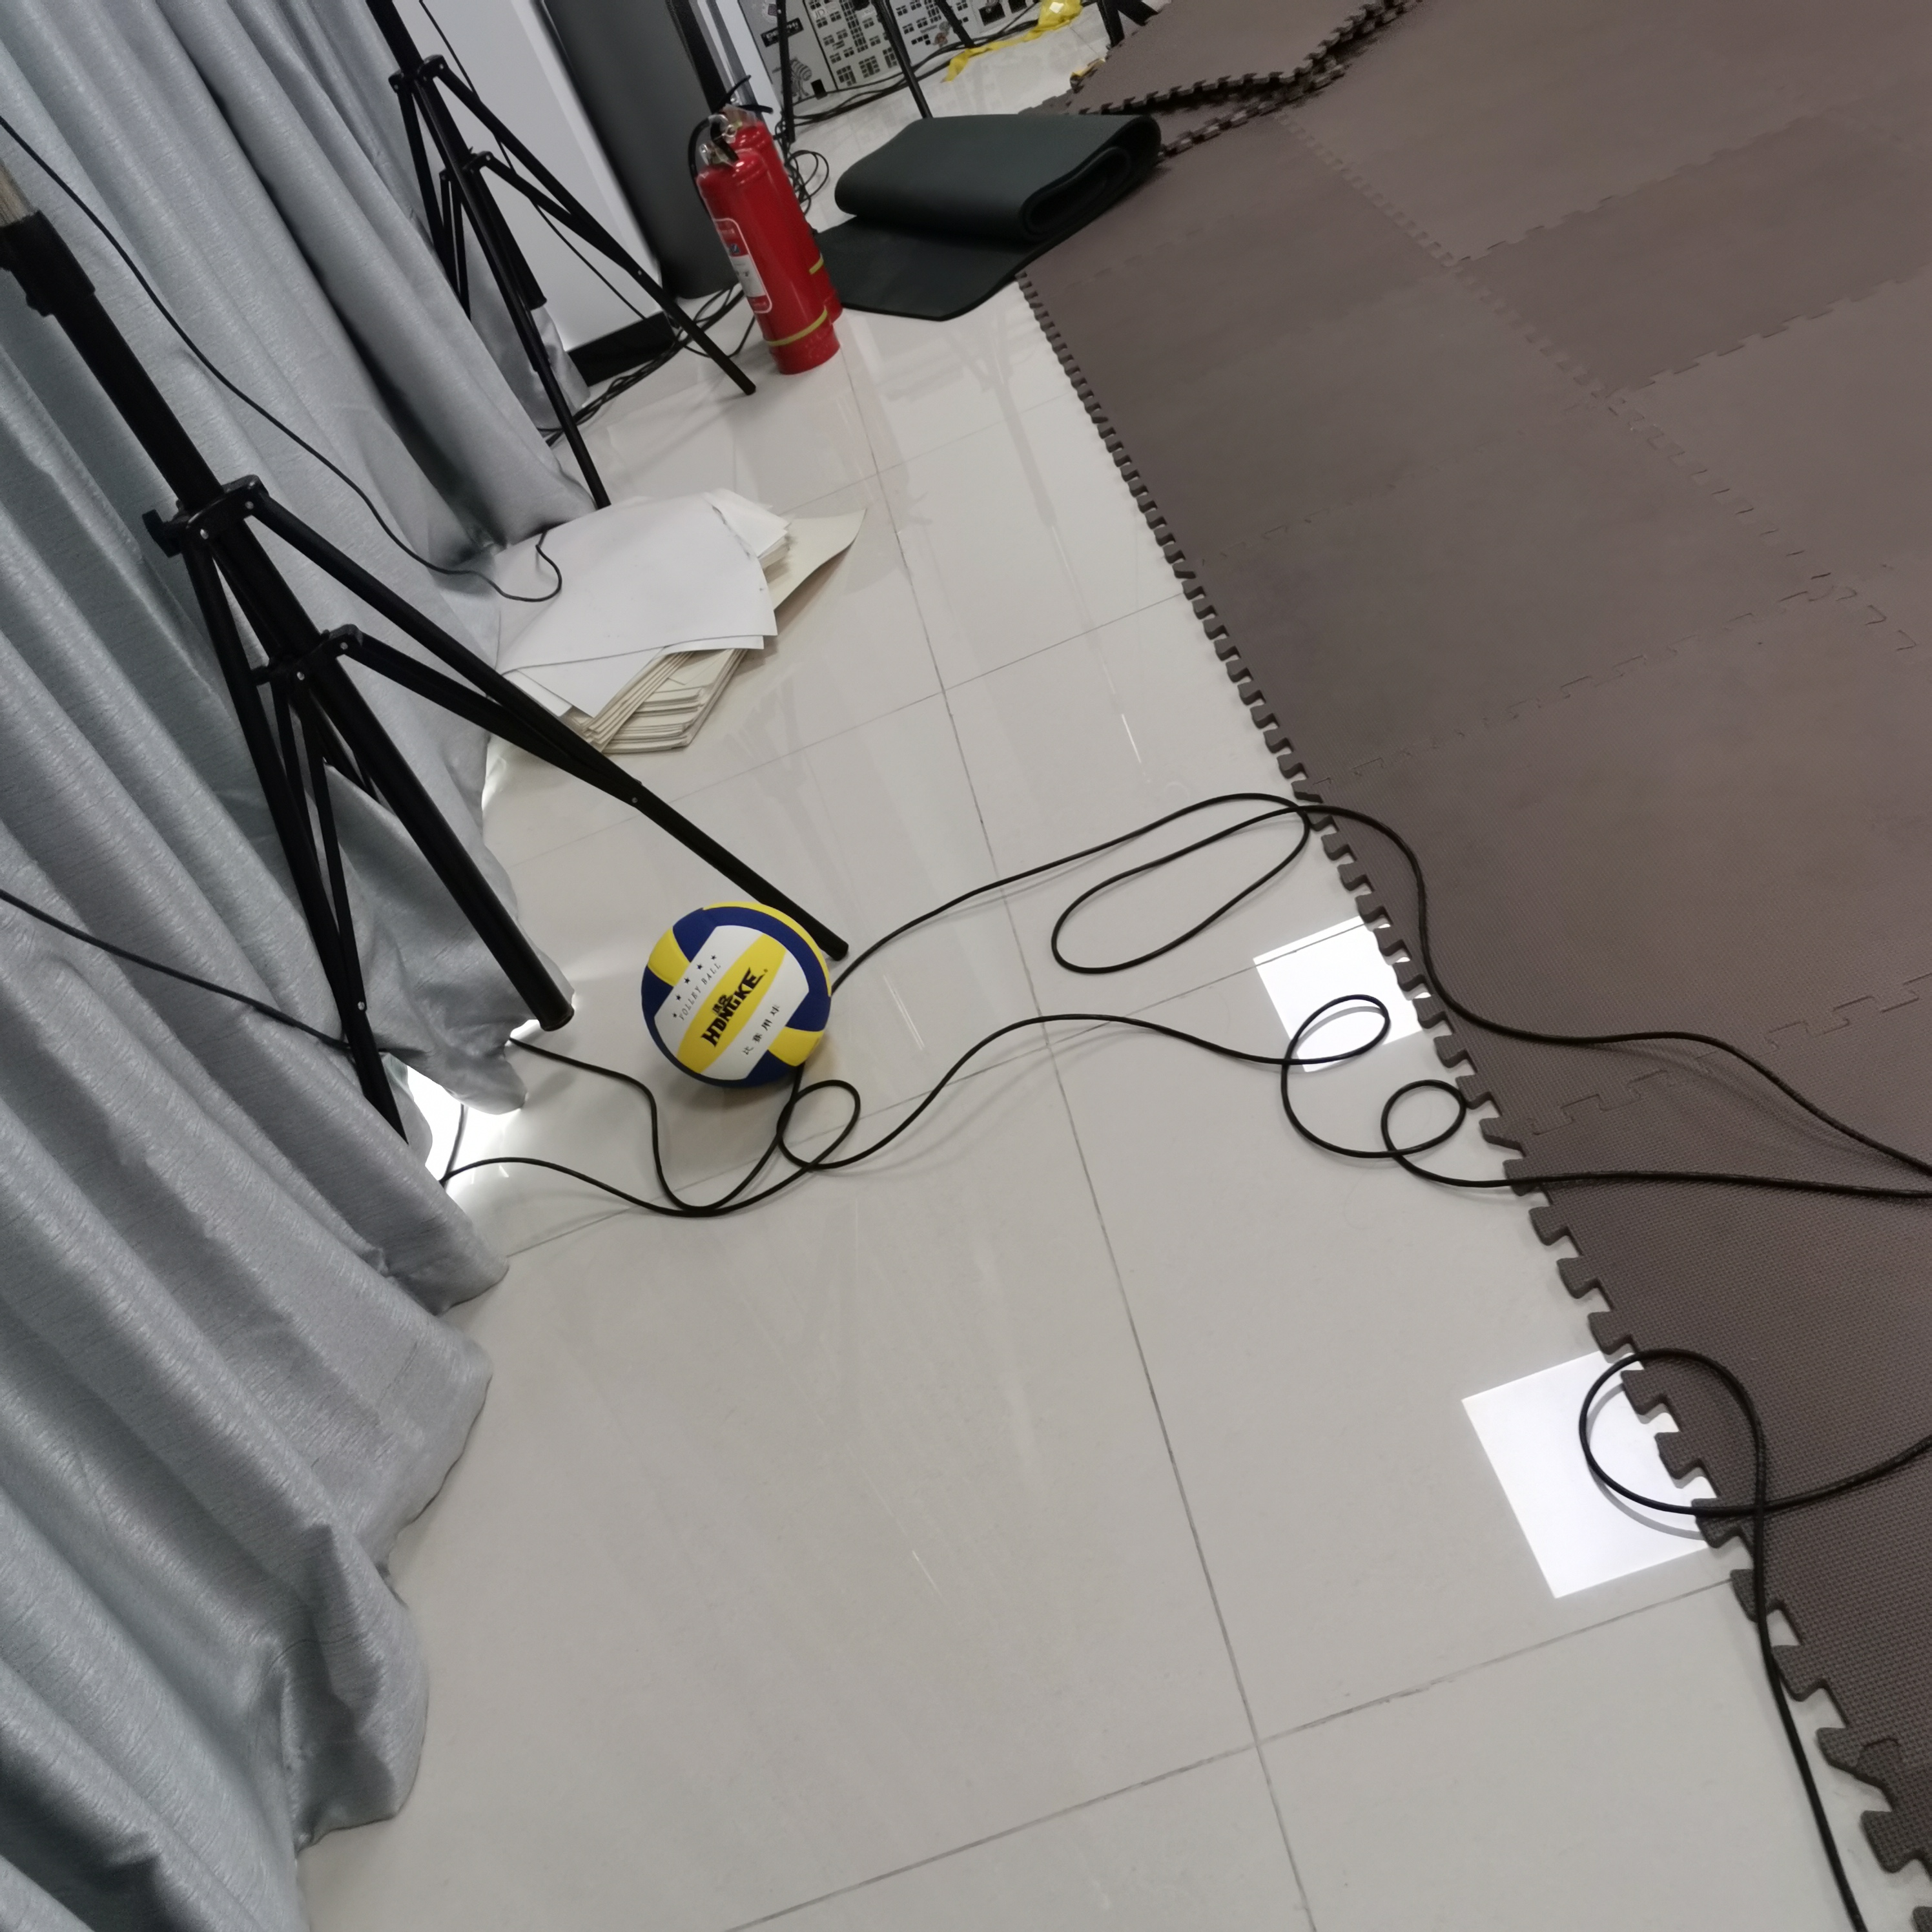volleyball: (646, 902, 830, 1092)
